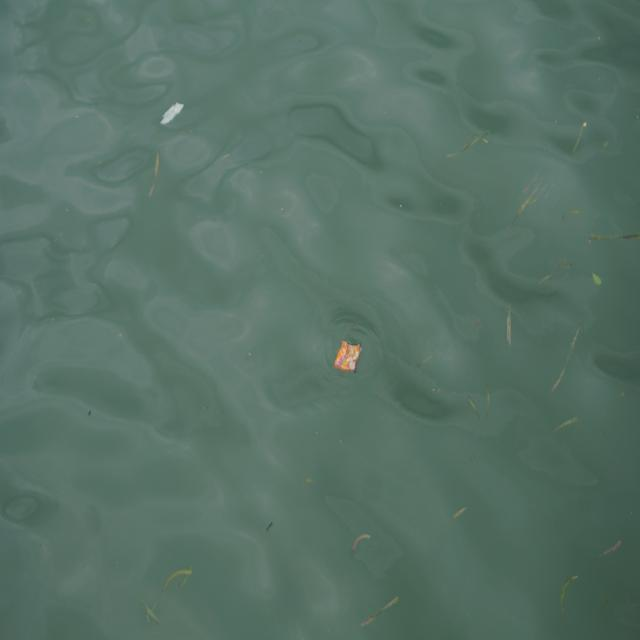Bungkus Makanan: (331, 336, 365, 377)
